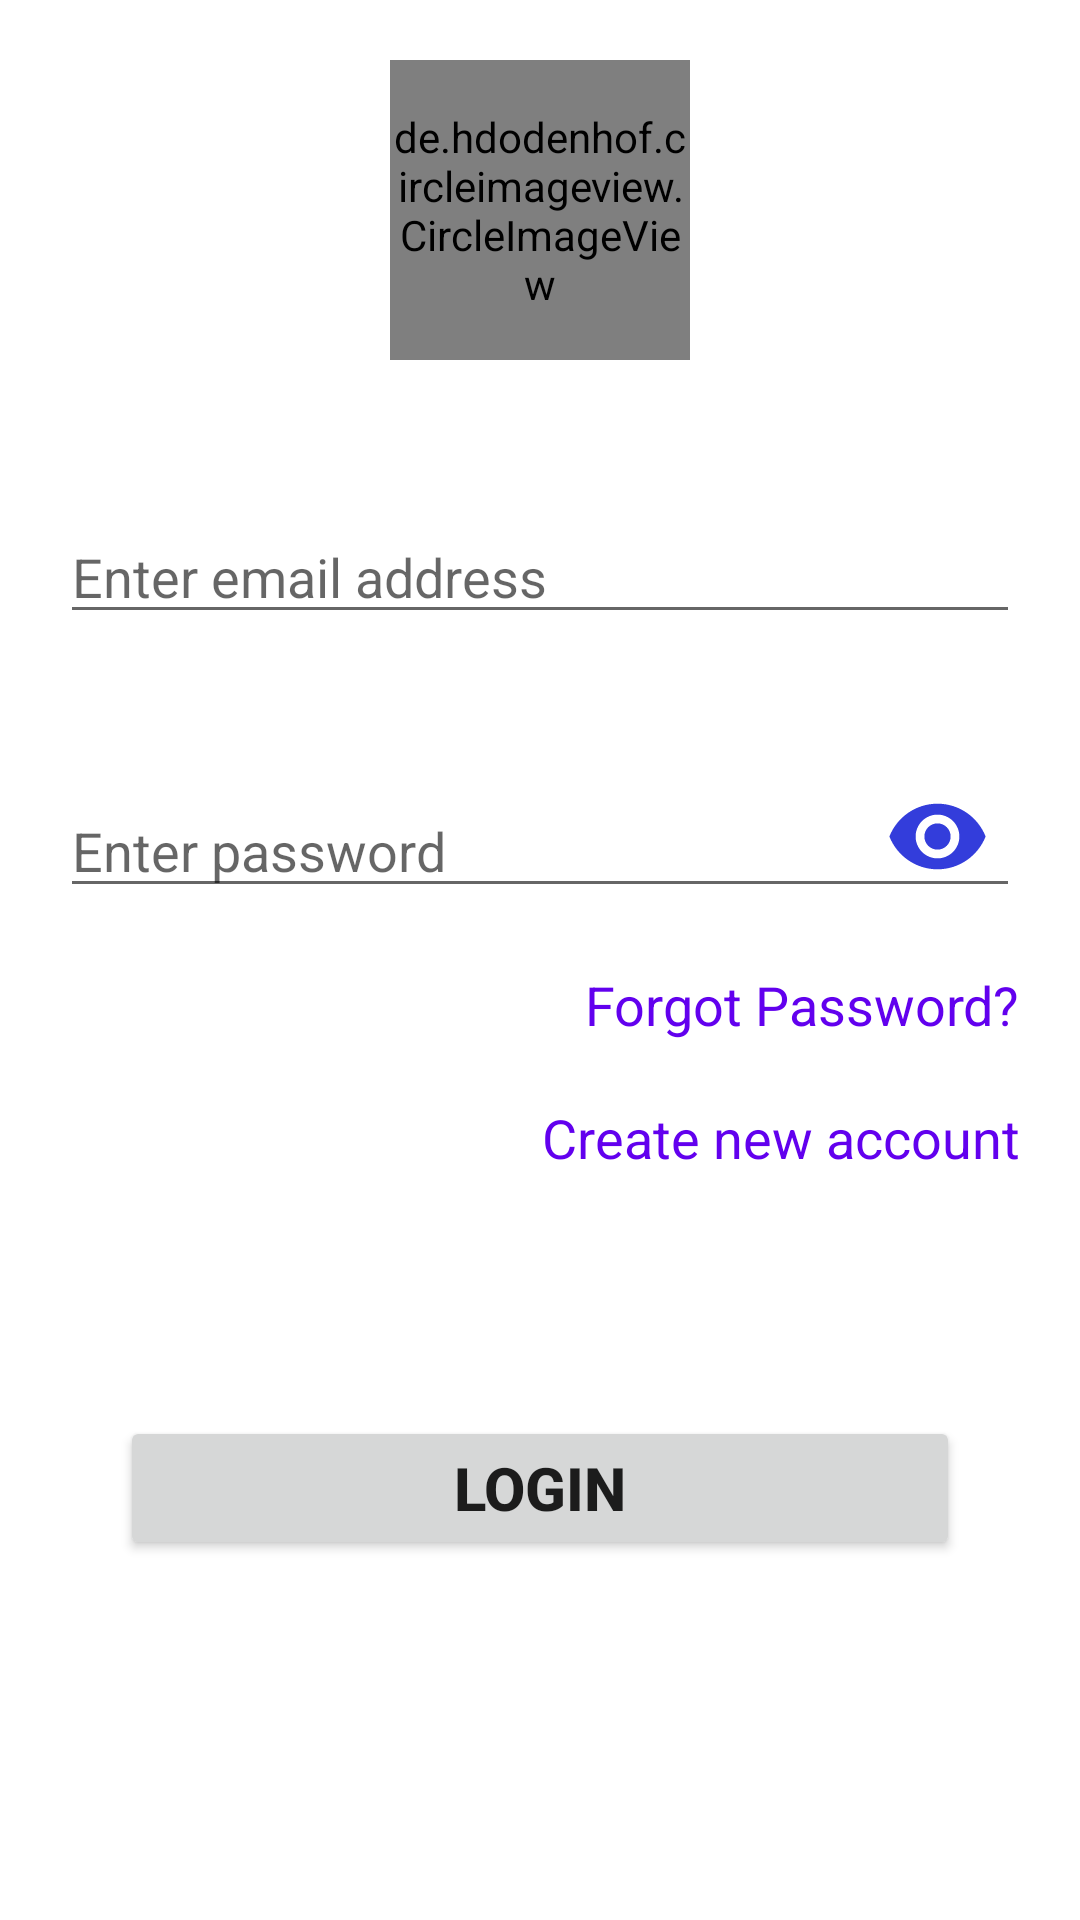

Icons on this 1080w x 1920h Android screen, each with the point to tap as (x=x, y=y):
visibility: (x=937, y=836)
